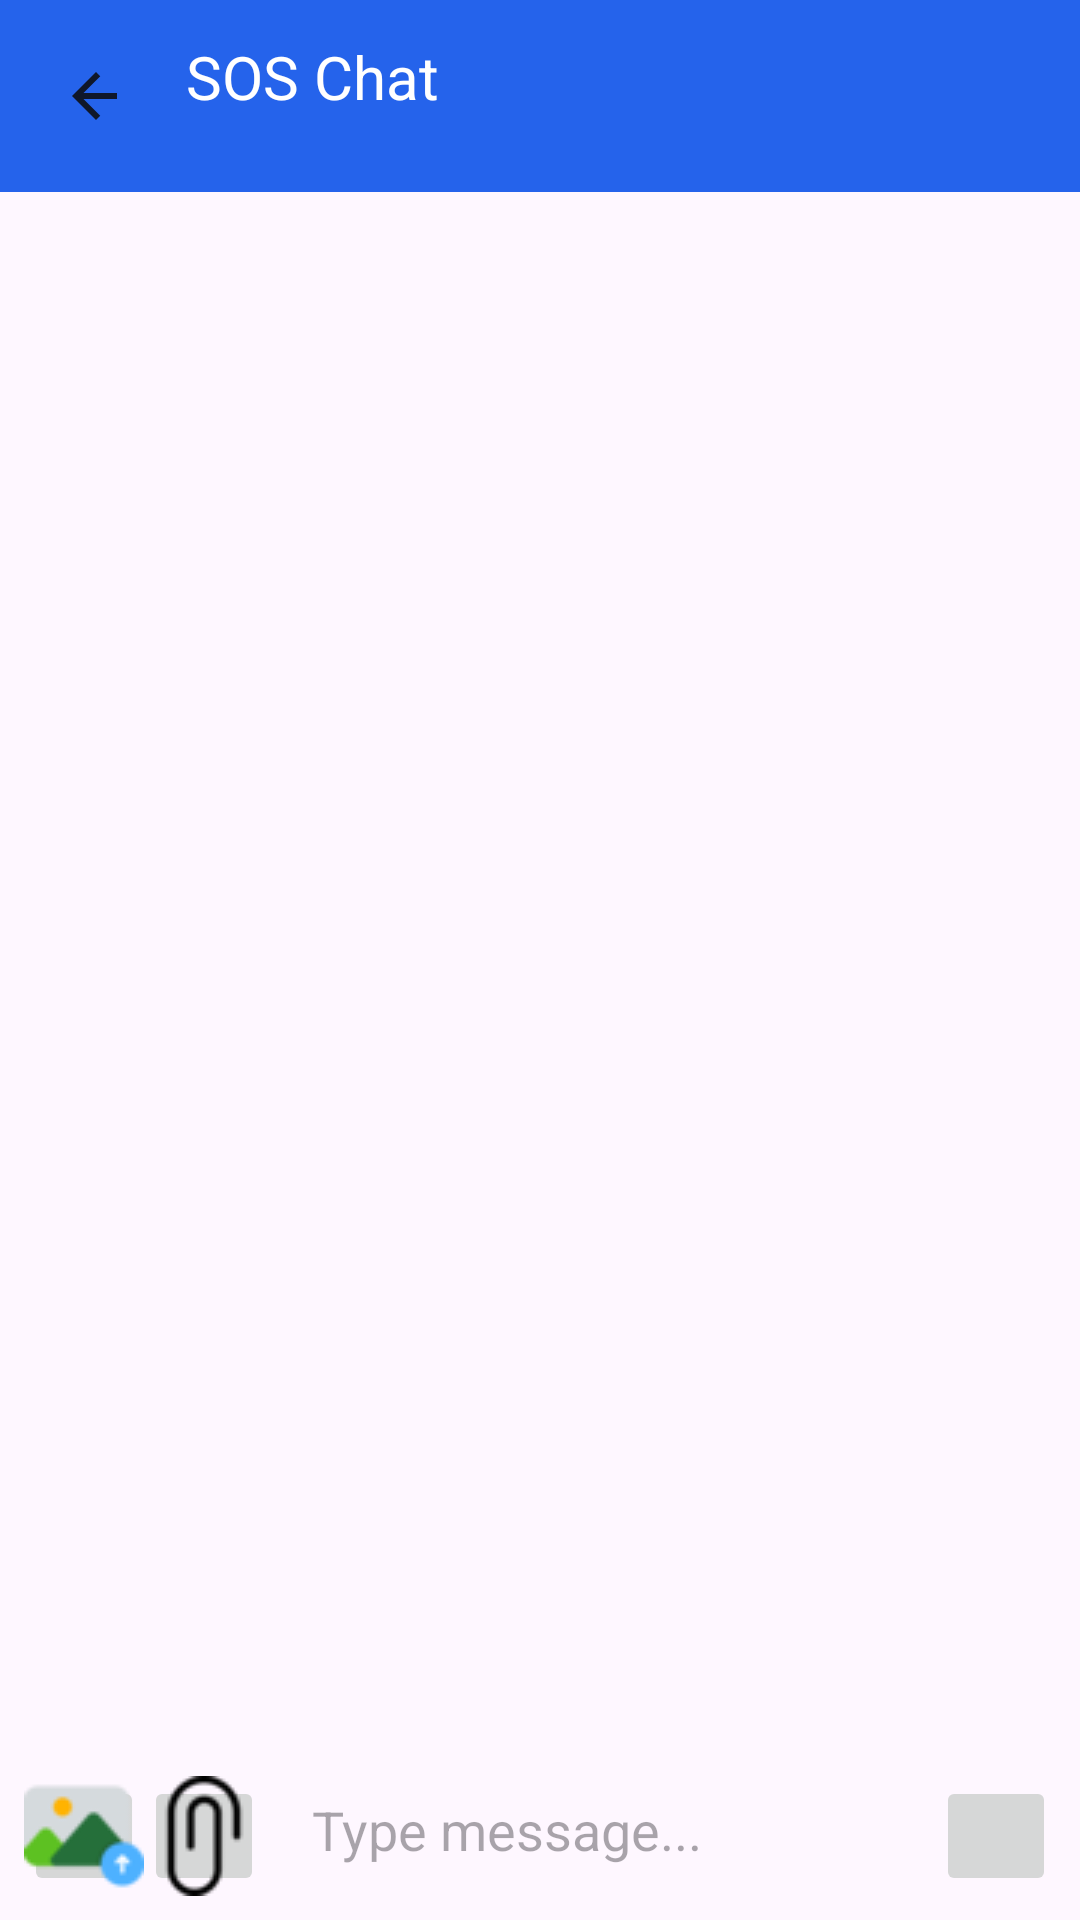

Screen size 1080 x 1920. Icon name, then its center in pixels as point (x, y):
attach: point (204, 1836)
back: point (94, 96)
